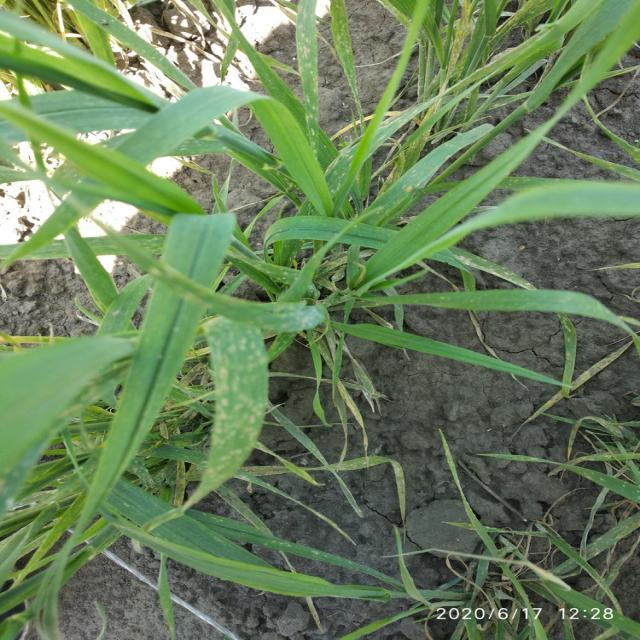wheat-powdery-mildew: (185, 320, 267, 508)
